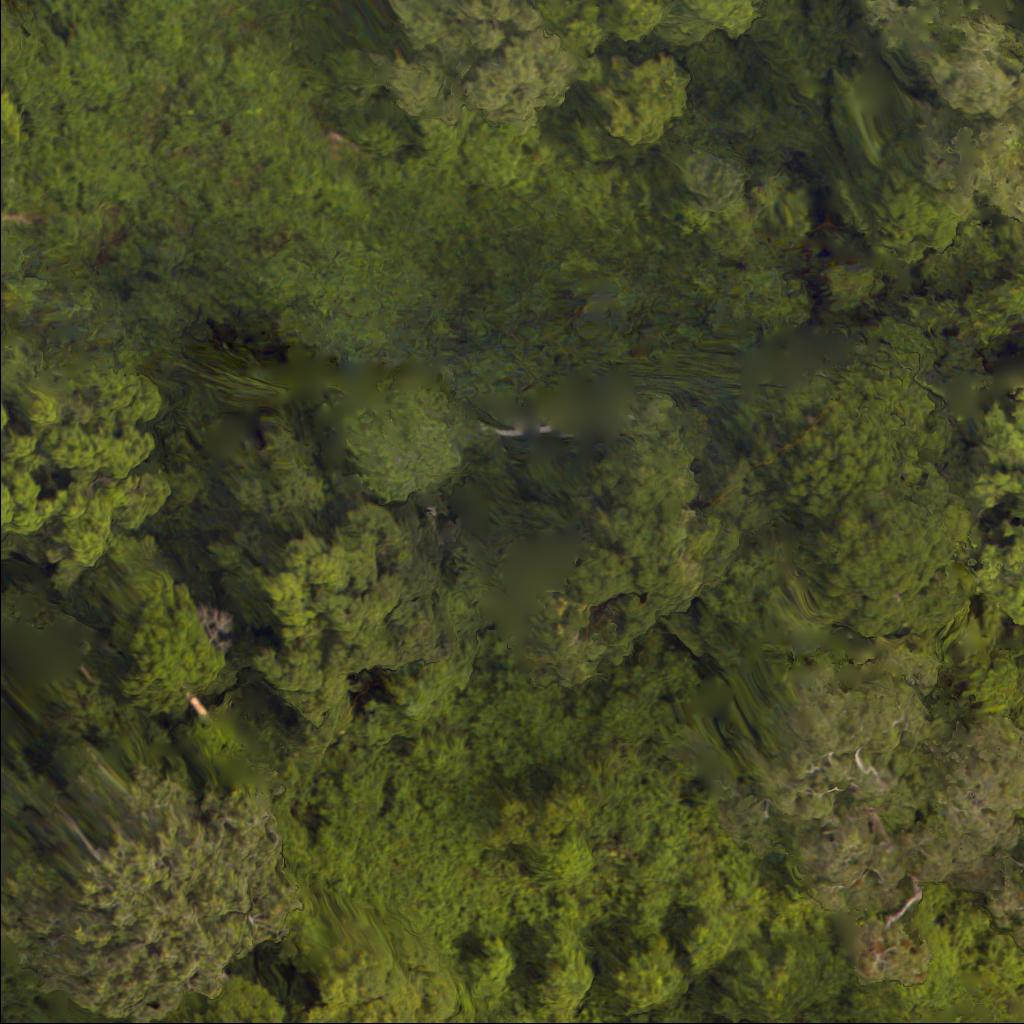crown: (0, 731, 302, 1006), (924, 380, 1023, 608)
